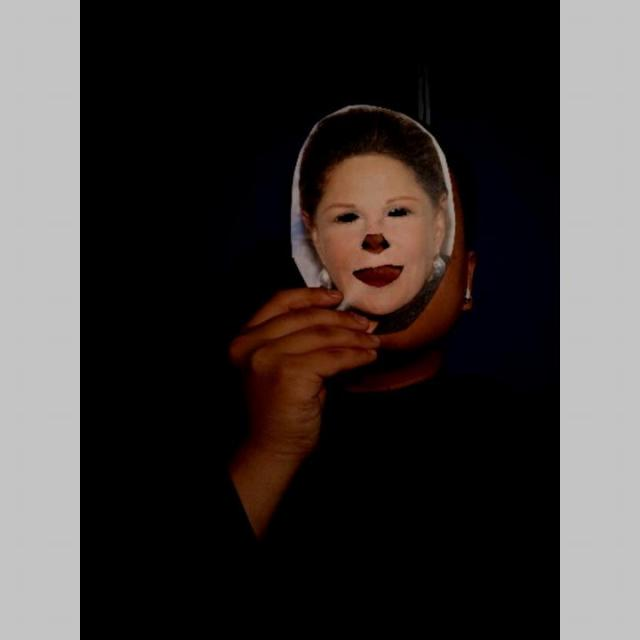mask: (286, 100, 459, 338)
